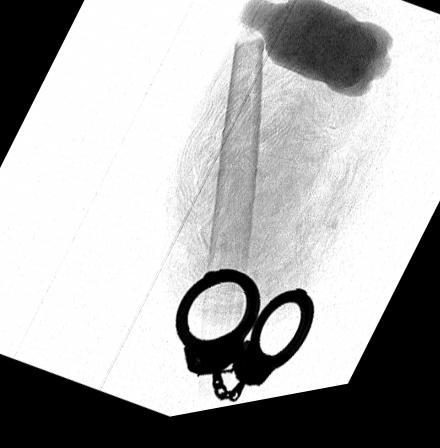HandCuffs: (175, 275, 314, 410)
